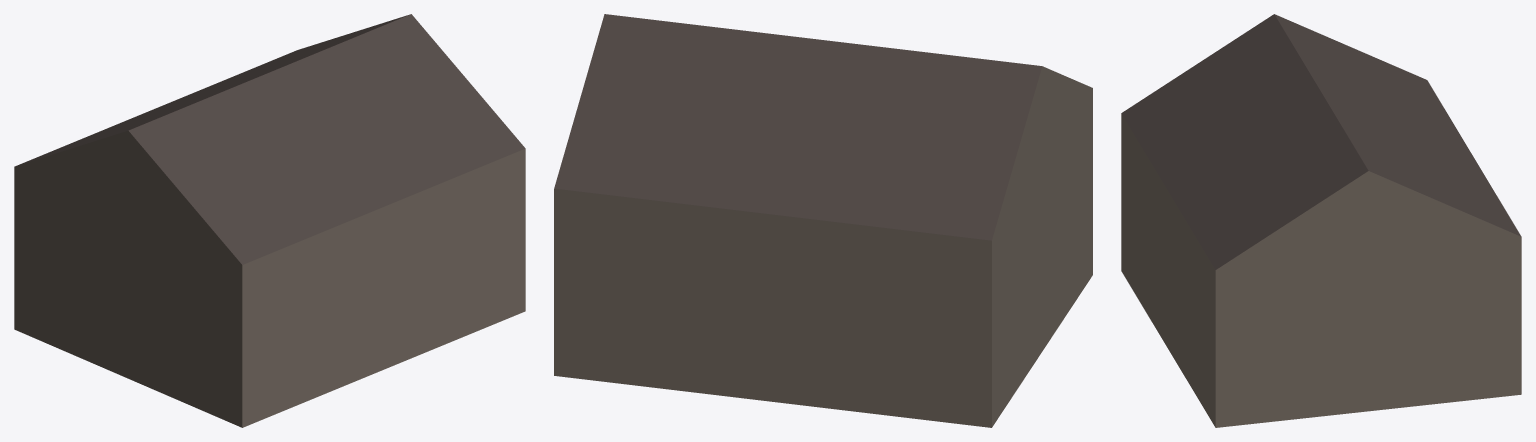
The picture shows the model from 3 angles, left to right: view 1: azimuth 30°, elevation 25°; view 2: azimuth 150°, elevation 25°; view 3: azimuth 270°, elevation 25°; orthographic projection. The views are drawn at different scales.
Visible parts, largest first — view 1: HP-w293513357; view 2: HP-w293513357; view 3: HP-w293513357.
Boxes of the visible parts, left/top/right/bottom form: HP-w293513357: left=14, top=14, right=525, bottom=427; HP-w293513357: left=554, top=14, right=1092, bottom=427; HP-w293513357: left=1121, top=14, right=1521, bottom=427.
Size of the model in its own units: 23.26 by 13.72 by 20.7.
